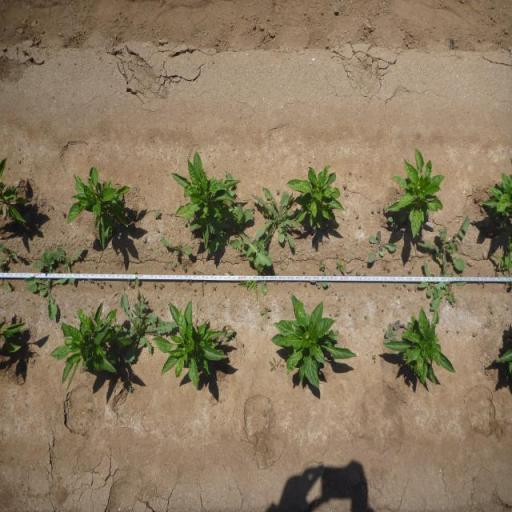plant: (268, 292, 357, 393), (50, 299, 130, 395), (152, 297, 228, 393), (384, 304, 455, 390), (172, 150, 234, 247), (386, 146, 446, 240), (66, 165, 133, 249), (286, 164, 346, 236), (0, 155, 26, 227), (481, 170, 512, 228)
weed: (207, 170, 272, 269), (416, 213, 472, 312), (118, 288, 178, 367), (24, 247, 68, 322), (251, 188, 301, 253), (51, 245, 86, 285), (486, 228, 512, 278), (366, 230, 397, 264), (238, 266, 268, 300), (418, 260, 437, 298), (160, 235, 192, 256), (0, 261, 14, 295), (384, 318, 402, 342), (386, 213, 406, 231), (0, 244, 18, 261), (268, 356, 285, 372), (222, 324, 236, 342), (259, 305, 272, 319), (310, 280, 328, 290), (336, 257, 344, 271), (153, 209, 161, 219), (318, 260, 325, 270), (128, 384, 134, 394), (134, 276, 140, 286), (384, 264, 390, 274), (489, 304, 494, 315), (158, 283, 165, 290), (169, 260, 177, 266), (372, 353, 376, 364), (342, 182, 348, 189), (333, 310, 339, 316), (181, 265, 186, 272), (407, 269, 412, 276), (153, 281, 157, 289), (472, 333, 478, 338), (88, 278, 92, 284), (107, 282, 111, 288), (250, 205, 254, 211), (358, 224, 362, 230), (322, 272, 328, 276), (356, 270, 360, 276), (402, 282, 408, 286), (60, 211, 64, 216), (228, 271, 233, 275), (276, 189, 280, 194), (378, 207, 381, 213), (348, 170, 352, 174), (356, 214, 360, 218), (338, 294, 340, 302), (131, 284, 134, 288), (102, 280, 104, 285), (96, 281, 98, 285), (372, 209, 374, 213)
